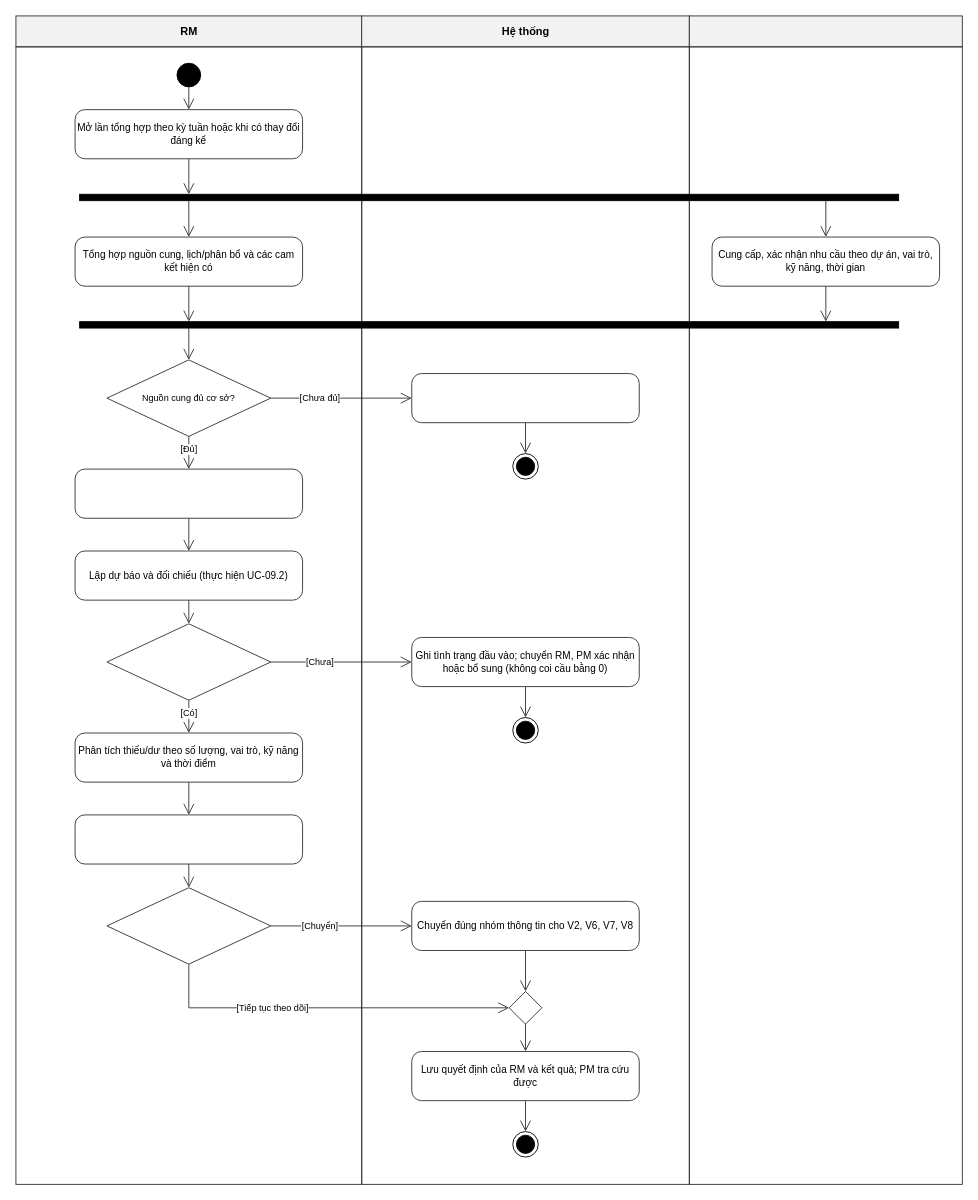
This 978x1200 diagram has some shape labels left out. Each missing label, with the centre of its shape:
Có kết quả đủ cơ sở?: (188,661)
Ghi phần thiếu, yêu cầu bổ sung; lưu tổng hợp tạm, chưa lập dự báo chính thức: (525,398)
PM: (825,31)
RM quyết định chuyển kết quả?: (188,925)
Tổng hợp kết quả; thông tin chi phí V9 chỉ là căn cứ bổ sung: (188,839)
Xác định nguồn cung có thể đáp ứng sau khi trừ đủ phân bổ và cam kết: (188,493)
